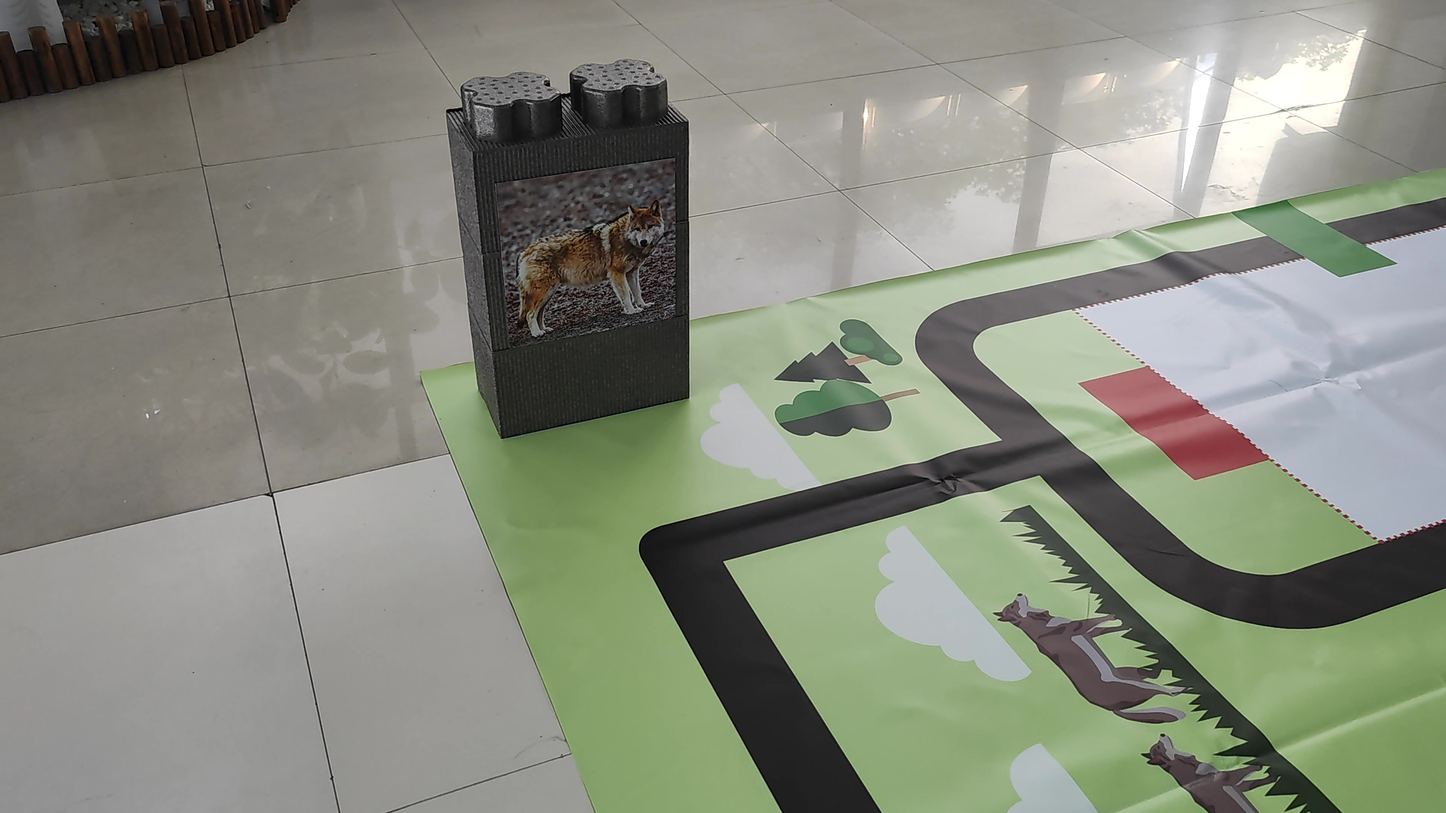wolf: (503, 189, 679, 347)
